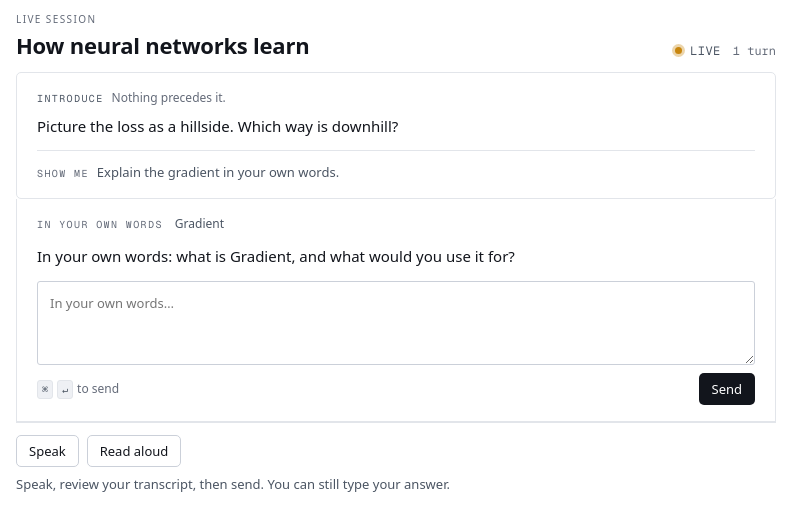
it: SessionView — the plainest surface a session can have › will not send an empty answer
Expected: the text box named "your answer" is shown, [37,281,755,365]
Click the button "Send". click: click(727, 389)
box: [698,373,755,405]
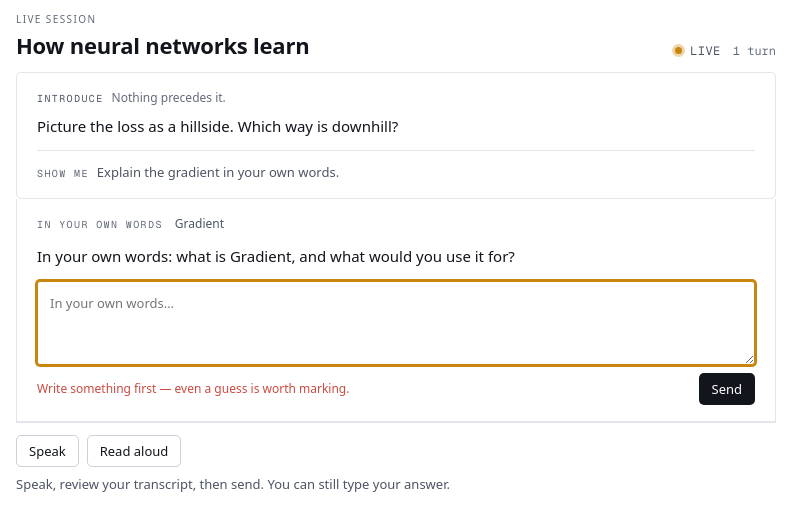
Expected: the text "Write something first — even a guess is worth marking." is shown, [37,380,349,398]
